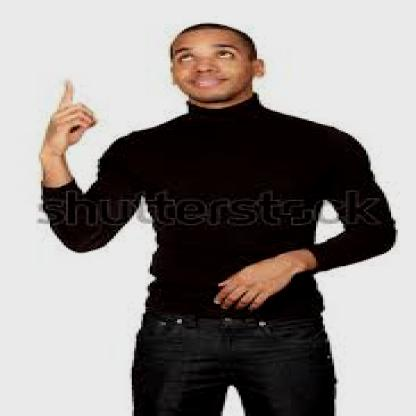Up: (35, 57, 106, 169)
